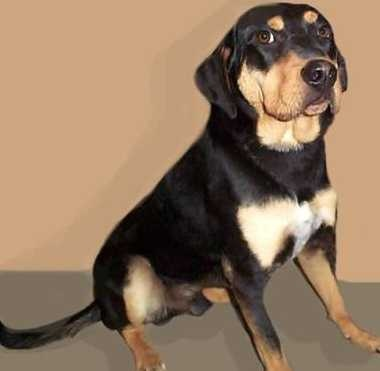Dog: (37, 4, 347, 346)
